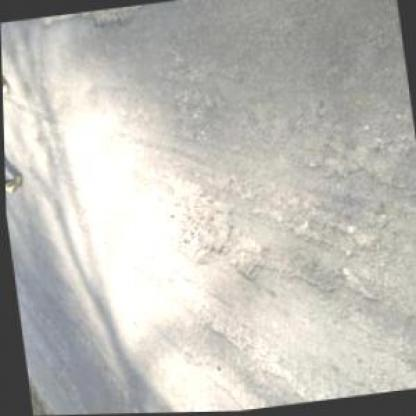pothole: (156, 168, 235, 266), (226, 237, 263, 282)
